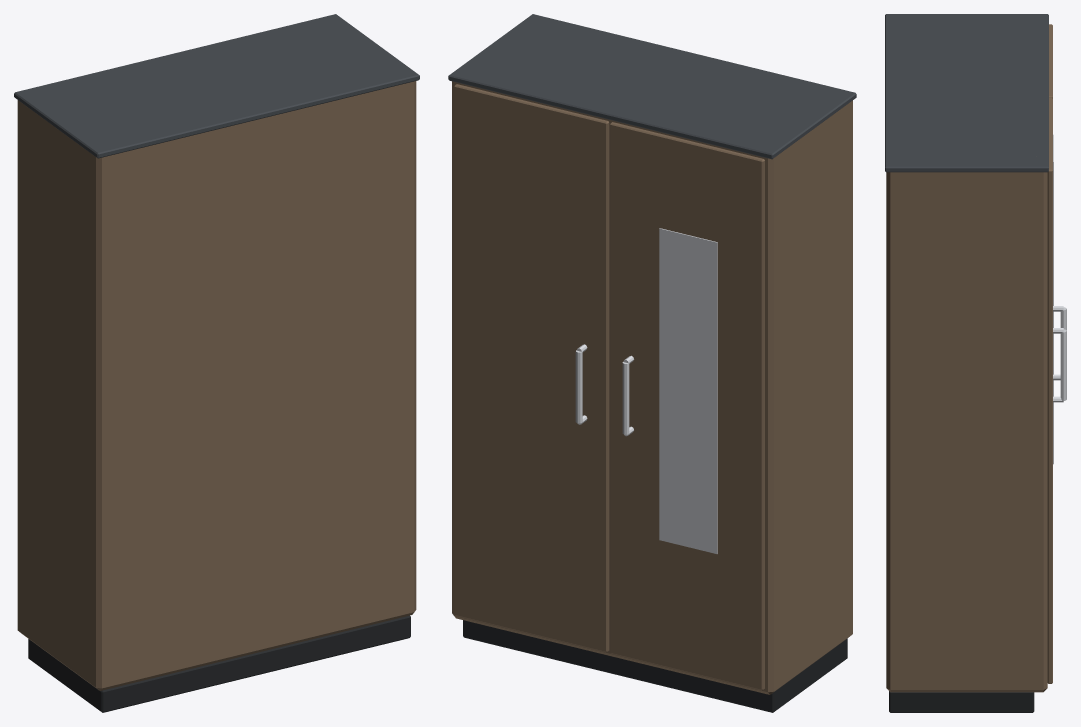
The model's file is wardrobe.glb.
3 views of the same model, side by side, from view 1: azimuth 30°, elevation 25°; view 2: azimuth 150°, elevation 25°; view 3: azimuth 270°, elevation 25° (orthographic). The views are drawn at different scales.
Parts seen in each view (by area): view 1: wardrobe; view 2: wardrobe; view 3: wardrobe.
Boxes of the visible parts, <box> form: wardrobe: <box>14,14,419,712</box>; wardrobe: <box>448,14,856,712</box>; wardrobe: <box>885,14,1066,712</box>.
Bounding box in the file's own units: 1.2 × 2 × 0.6.
